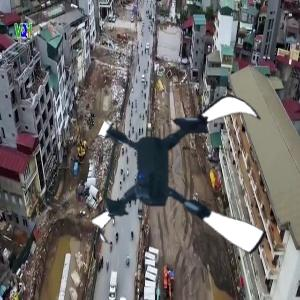drone: (89, 81, 286, 278)
